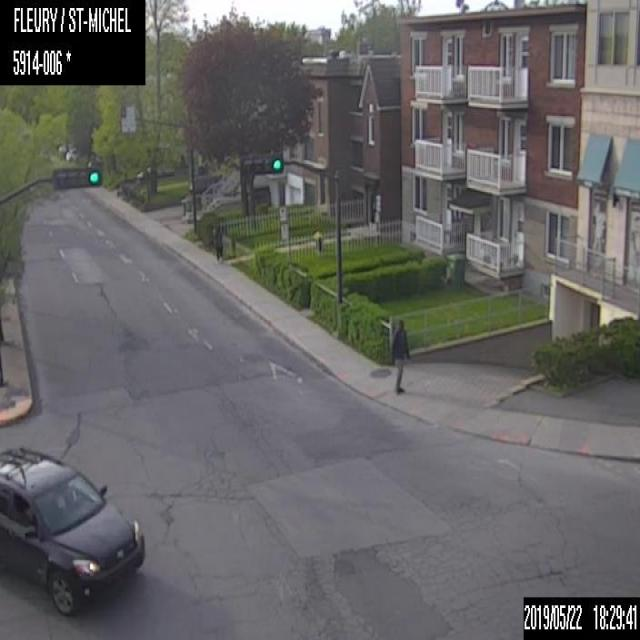pedestrian: (388, 317, 408, 393), (210, 218, 226, 268)
vehicle: (0, 444, 145, 615)
